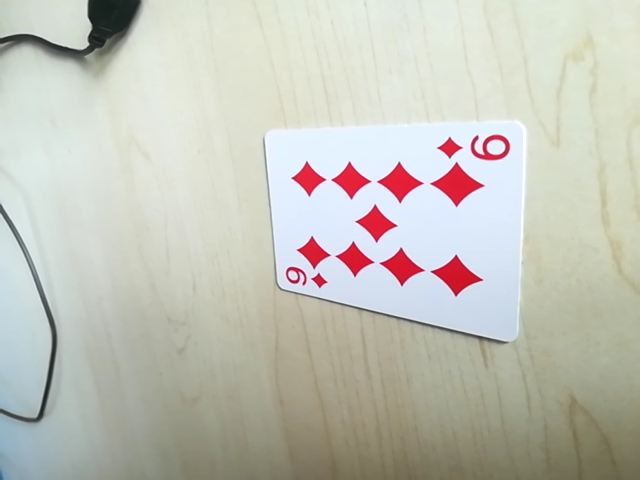fk 9: (436, 126, 515, 167), (279, 265, 330, 293)
